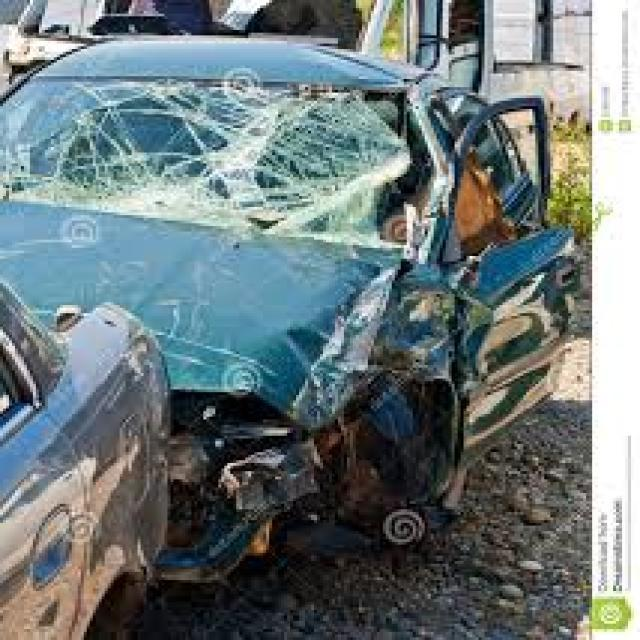damaged-hood: (163, 231, 397, 427)
